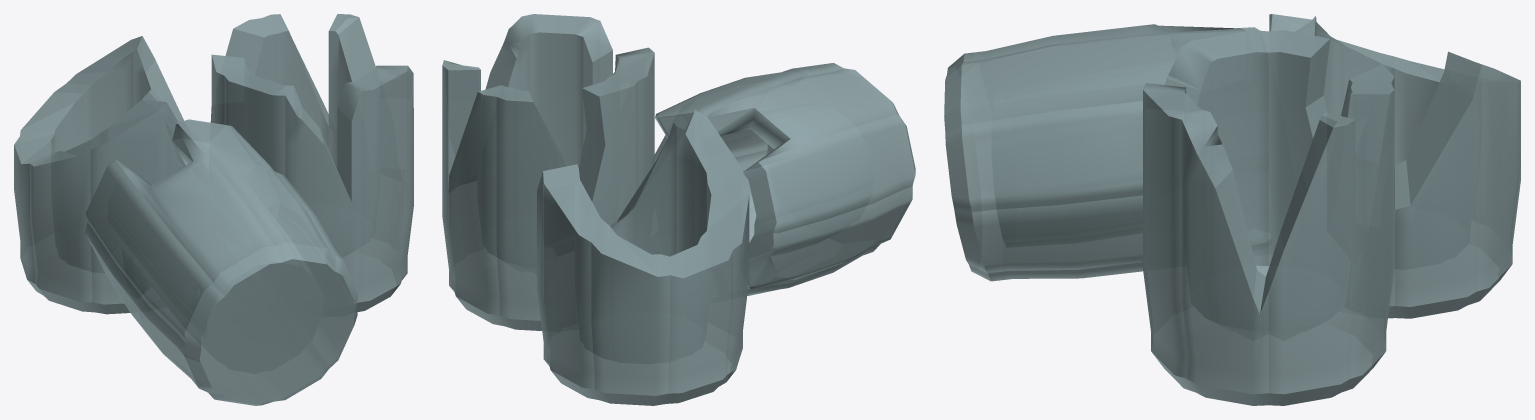
The model's file is ScrapGlass.fbx.
The picture shows the model from 3 angles, left to right: view 1: azimuth 30°, elevation 25°; view 2: azimuth 150°, elevation 25°; view 3: azimuth 270°, elevation 25°; orthographic projection. The views are drawn at different scales.
Visible parts, largest first — view 1: Glass1, Glass3, Glass2; view 2: Glass2, Glass3, Glass1; view 3: Glass3, Glass1, Glass2.
Boxes of the visible parts, bbox=[...] form: Glass1: bbox=[85, 119, 358, 405]; Glass3: bbox=[210, 14, 413, 312]; Glass2: bbox=[14, 36, 185, 314]; Glass2: bbox=[537, 110, 749, 405]; Glass3: bbox=[442, 14, 654, 330]; Glass1: bbox=[654, 63, 915, 302]; Glass3: bbox=[1143, 30, 1394, 405]; Glass1: bbox=[944, 24, 1271, 281]; Glass2: bbox=[1269, 14, 1520, 318].
Bounding box in the file's own units: 4.56 × 3.06 × 5.64.
